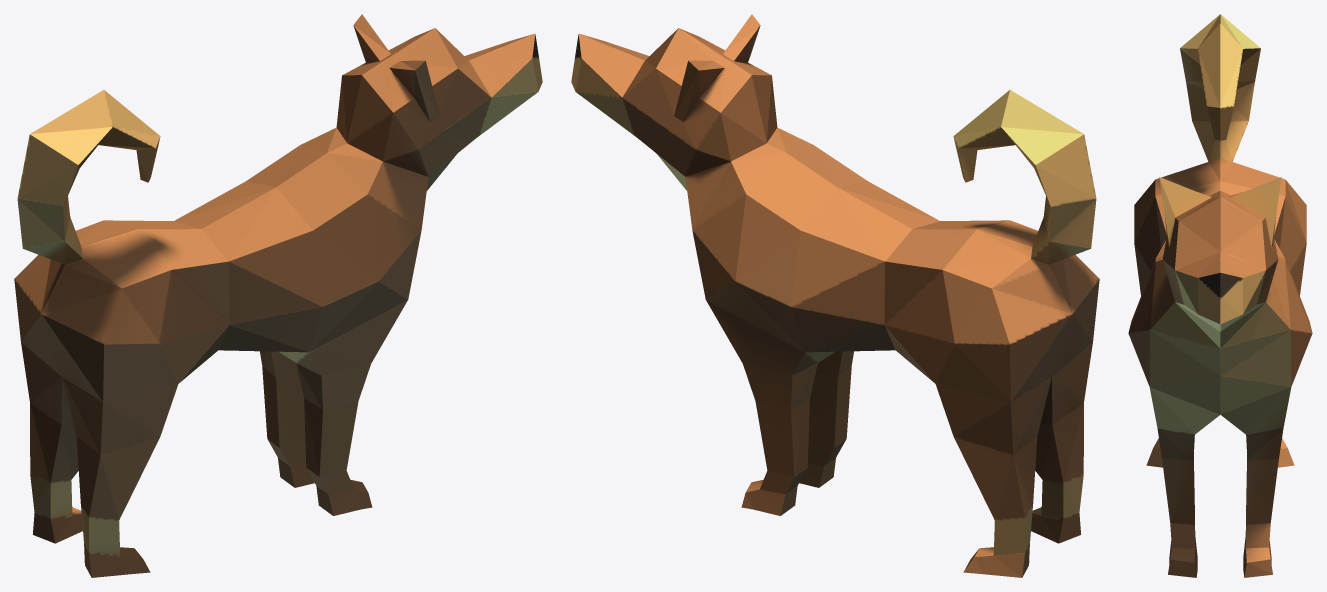
3 views of the same model, side by side, from view 1: azimuth 30°, elevation 25°; view 2: azimuth 150°, elevation 25°; view 3: azimuth 270°, elevation 25° (orthographic). The views are drawn at different scales.
Parts seen in each view (by area): view 1: dog_Icosphere.047; view 2: dog_Icosphere.047; view 3: dog_Icosphere.047.
Part boxes in pixels (x1,y1,x2,y2): dog_Icosphere.047: (14, 14, 542, 577); dog_Icosphere.047: (571, 14, 1099, 577); dog_Icosphere.047: (1128, 14, 1312, 577).
Size of the model in its own units: 1.86 by 1.54 by 0.5873.
Materials: 1 (1 with a texture image).
